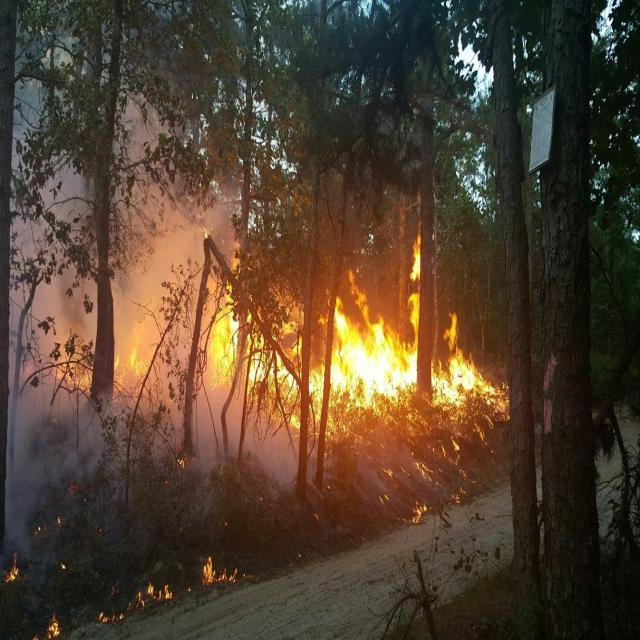Fire: (334, 238, 422, 412), (227, 303, 306, 404), (432, 314, 498, 412), (93, 587, 175, 613), (212, 298, 238, 377), (116, 340, 145, 392), (202, 556, 242, 585), (38, 608, 62, 640), (4, 548, 18, 586)
Smoke: (6, 46, 399, 548)
